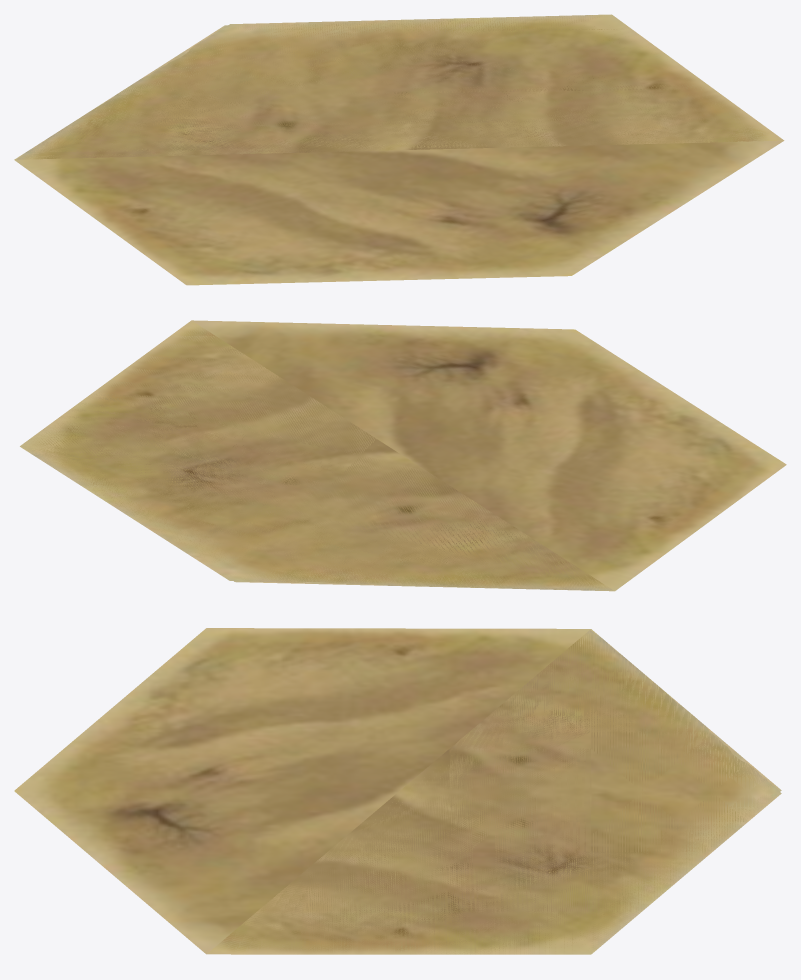
Rendered from Desert.fbx.
3 views of the same model, one above another, from view 1: azimuth 30°, elevation 25°; view 2: azimuth 150°, elevation 25°; view 3: azimuth 270°, elevation 25° (orthographic). The views are drawn at different scales.
Parts seen in each view (by area): view 1: Circle; view 2: Circle; view 3: Circle.
Part boxes in pixels (x1,y1,x2,y2): Circle: [14, 14, 784, 285]; Circle: [20, 320, 786, 591]; Circle: [14, 628, 781, 954].
Size of the model in its own units: 201 by 3 by 201.
Materials: 1 (1 with a texture image).
